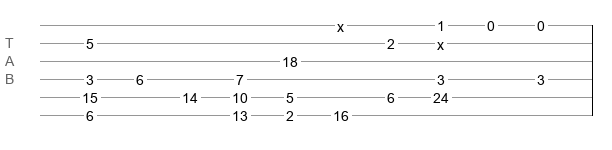0: (487, 18, 495, 28), (537, 18, 545, 28)
1: (437, 18, 445, 28)
10: (232, 90, 248, 100)
13: (232, 108, 248, 118)
14: (182, 90, 198, 100)
15: (82, 90, 98, 100)
16: (333, 108, 349, 118)
18: (282, 54, 298, 64)
2: (286, 108, 294, 118), (387, 36, 395, 46)
24: (433, 90, 449, 100)
3: (86, 72, 94, 82), (437, 72, 445, 82), (537, 72, 545, 82)
5: (86, 36, 94, 46), (286, 90, 294, 100)
6: (86, 108, 94, 118), (136, 72, 144, 82), (387, 90, 395, 100)
7: (236, 72, 244, 82)
x: (337, 19, 344, 27), (437, 37, 444, 45)
